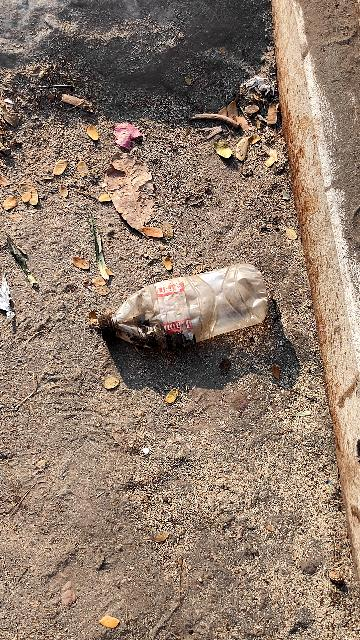bottle: (99, 255, 273, 361)
